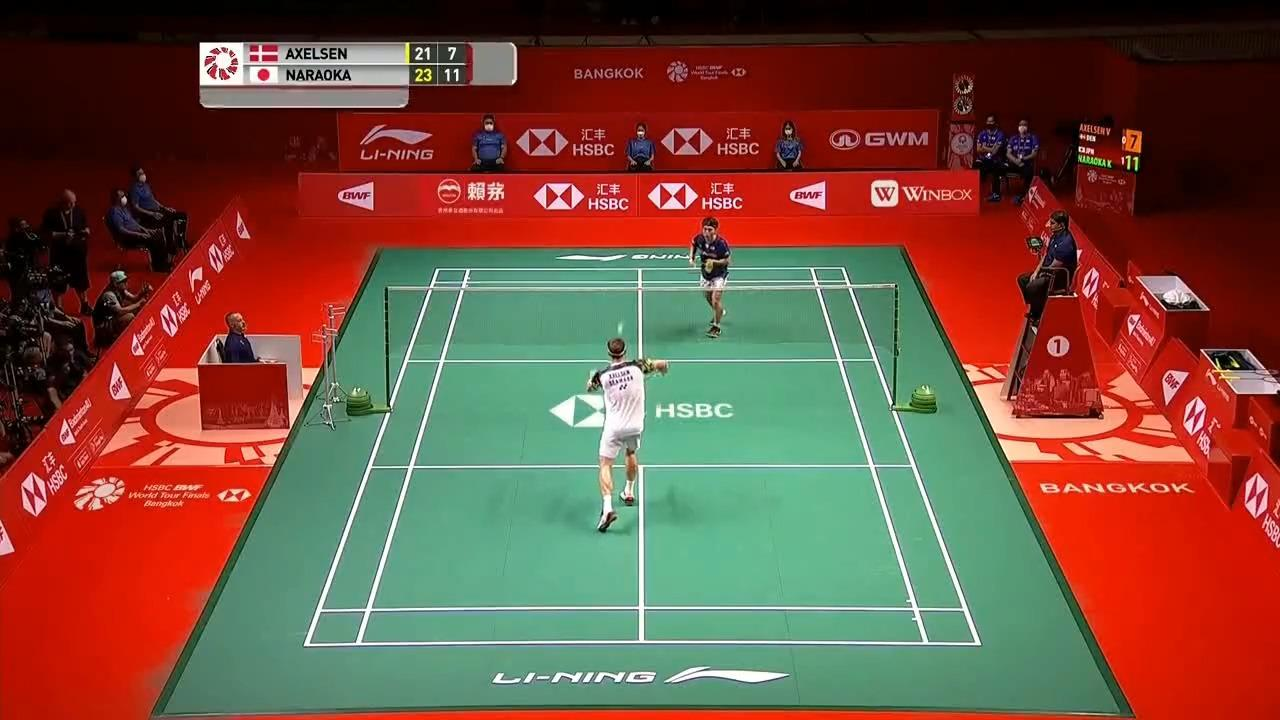shuttle: (616, 324, 627, 335)
